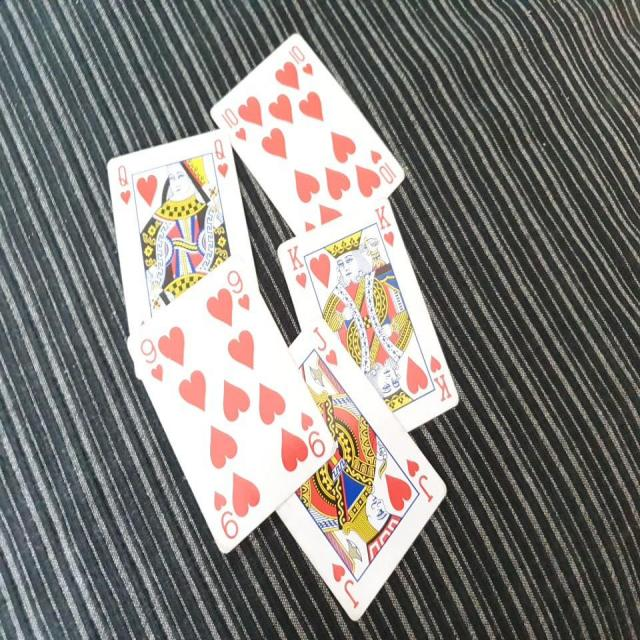10 Hearts: (204, 16, 409, 223)
9 Hearts: (121, 248, 341, 559)
J Hearts: (260, 314, 445, 620)
K Hearts: (271, 202, 459, 449)
Q Hearts: (97, 121, 268, 321)
